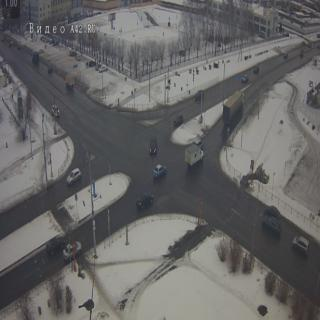large-vehicle: (227, 92, 243, 130), (183, 146, 204, 166), (64, 71, 76, 90), (31, 49, 40, 65)
small-vehicle: (292, 229, 310, 254), (263, 209, 280, 235), (64, 238, 84, 257), (263, 195, 282, 215), (65, 168, 81, 189), (42, 237, 64, 251), (137, 197, 156, 209), (151, 166, 168, 179), (150, 133, 158, 159), (248, 60, 260, 75), (50, 101, 60, 118), (238, 78, 252, 89), (172, 116, 185, 127), (192, 92, 205, 103), (283, 50, 289, 61), (48, 63, 53, 74)
